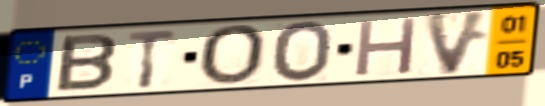B: (52, 32, 120, 94)
H: (352, 15, 422, 79)
O: (197, 23, 270, 88), (271, 19, 336, 85)
T: (125, 28, 179, 91)
V: (422, 9, 494, 78)
